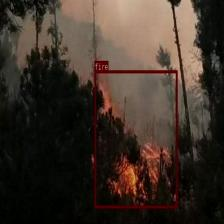fire: (94, 70, 177, 208)
